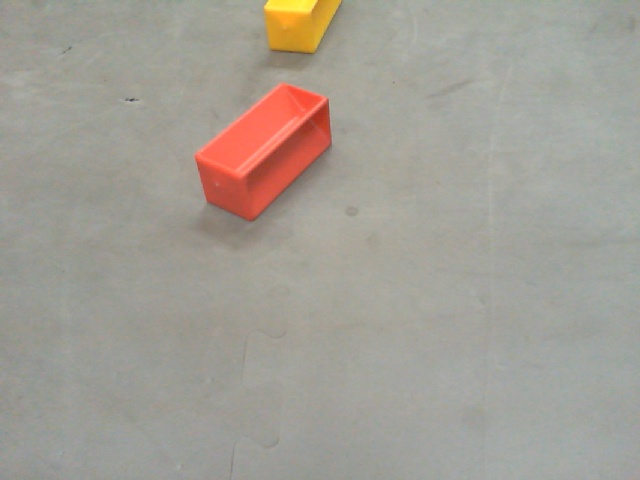RedSample: (191, 80, 332, 224)
YellowSample: (262, 1, 342, 55)
